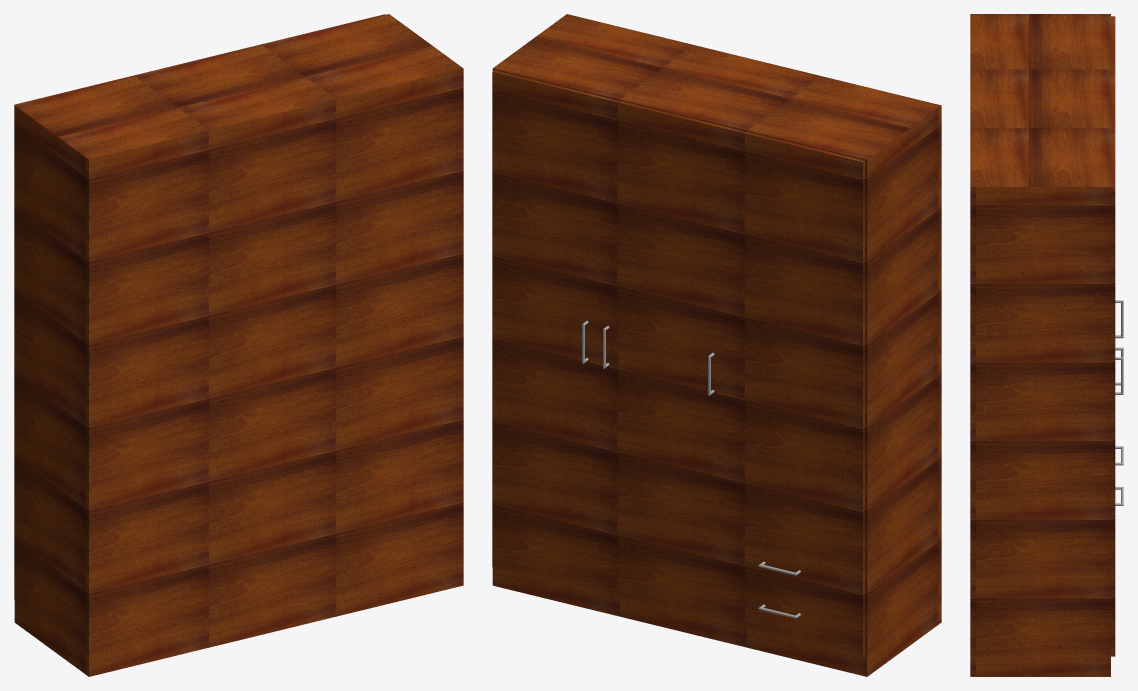
The picture shows the model from 3 angles, left to right: view 1: azimuth 30°, elevation 25°; view 2: azimuth 150°, elevation 25°; view 3: azimuth 270°, elevation 25°; orthographic projection. The views are drawn at different scales.
Visible parts, largest first — view 1: mesh1_mesh1-geometry; view 2: mesh1_mesh1-geometry; view 3: mesh1_mesh1-geometry.
Boxes of the visible parts, <box> form: mesh1_mesh1-geometry: <box>14,14,463,676</box>; mesh1_mesh1-geometry: <box>492,14,941,676</box>; mesh1_mesh1-geometry: <box>970,14,1115,676</box>.
Size of the model in its own units: 0.5891 by 0.7773 by 0.2209.
